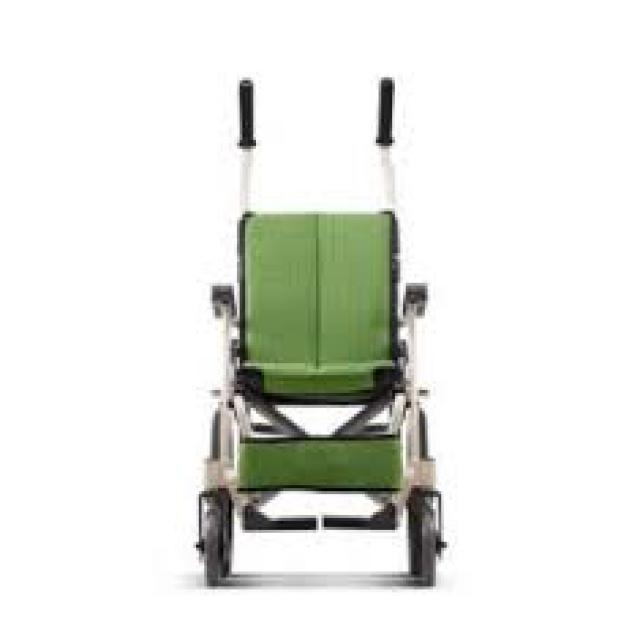wheelchair: (155, 54, 471, 628)
